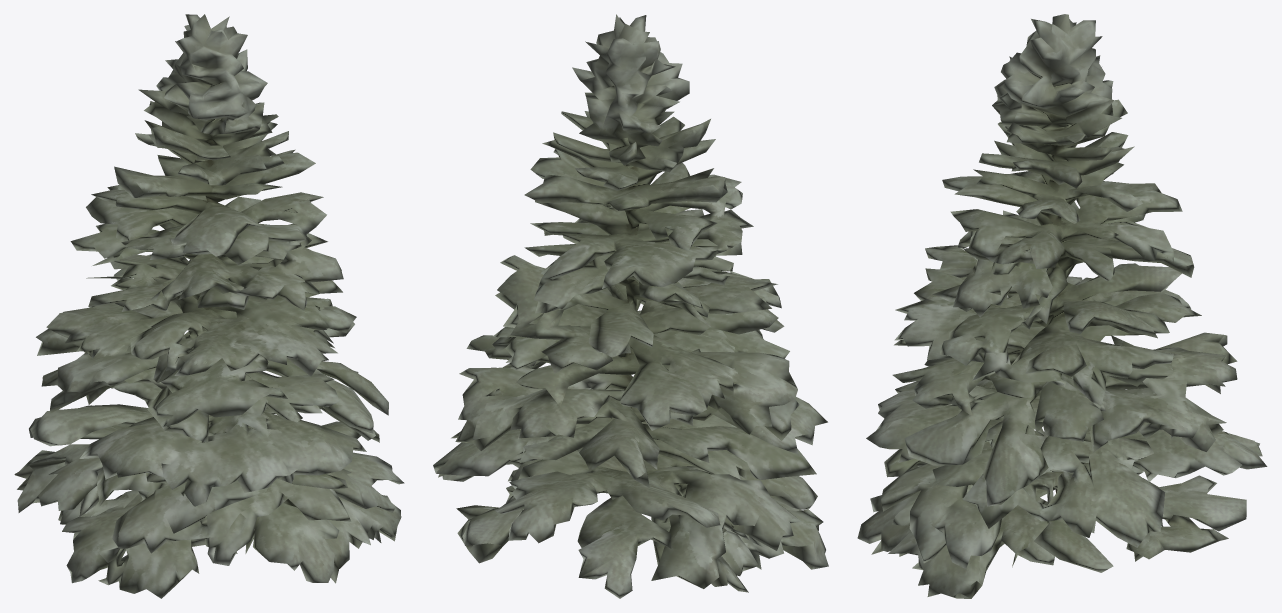
File: pine1.glb
The picture shows the model from 3 angles, left to right: view 1: azimuth 30°, elevation 25°; view 2: azimuth 150°, elevation 25°; view 3: azimuth 270°, elevation 25°; orthographic projection. The views are drawn at different scales.
Parts seen in each view (by area): view 1: geometry_0; view 2: geometry_0; view 3: geometry_0.
Boxes of the visible parts, x1,y1,x2,y2 form: geometry_0: (14, 14, 404, 598); geometry_0: (433, 14, 828, 598); geometry_0: (857, 14, 1267, 598).
Bounding box in the file's own units: 0.5987 × 0.8902 × 0.6329.
Materials: 1 (1 with a texture image).
